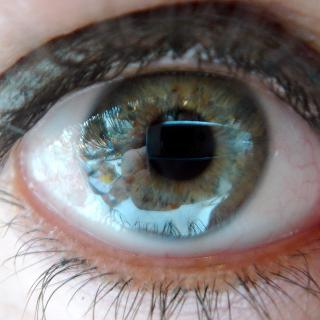pupil: (143, 110, 215, 182)
